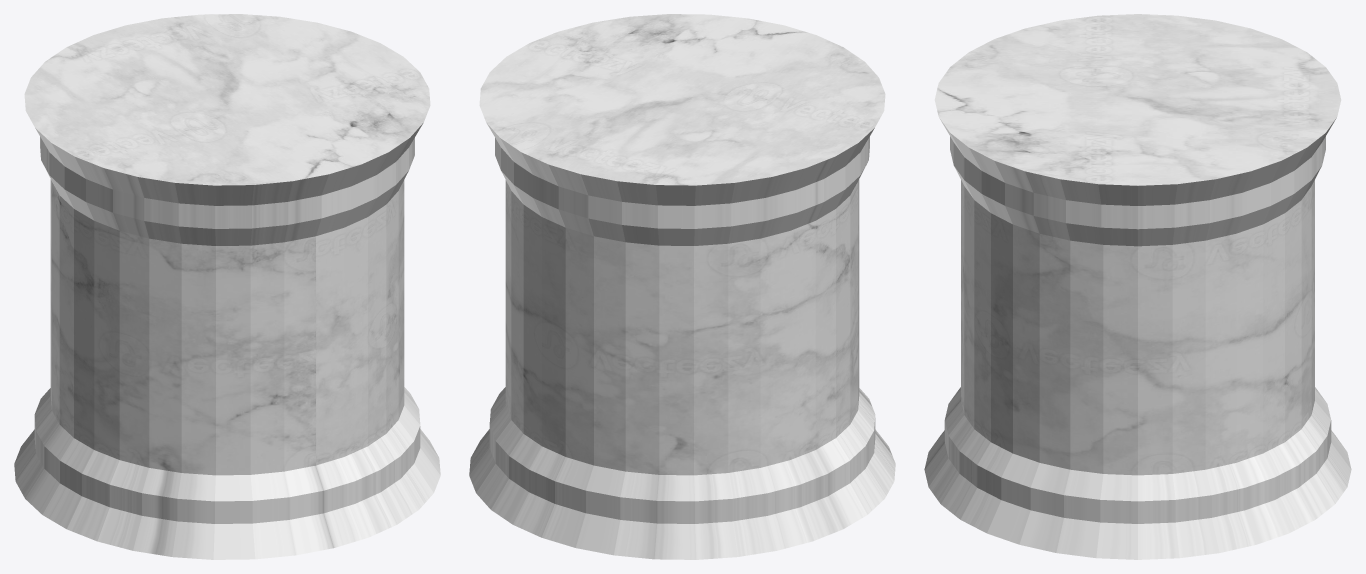
Rendered from Sockel.glb.
3 views of the same model, side by side, from view 1: azimuth 30°, elevation 25°; view 2: azimuth 150°, elevation 25°; view 3: azimuth 270°, elevation 25° (orthographic).
Visible parts, largest first — view 1: Cylinder; view 2: Cylinder; view 3: Cylinder.
Part boxes in pixels (x1=…): Cylinder: x1=14, y1=14, x2=440, y2=559; Cylinder: x1=469, y1=14, x2=895, y2=559; Cylinder: x1=924, y1=14, x2=1351, y2=559.
Bounding box in the file's own units: 0.3509 × 0.3352 × 0.3509.
Materials: 1 (1 with a texture image).
